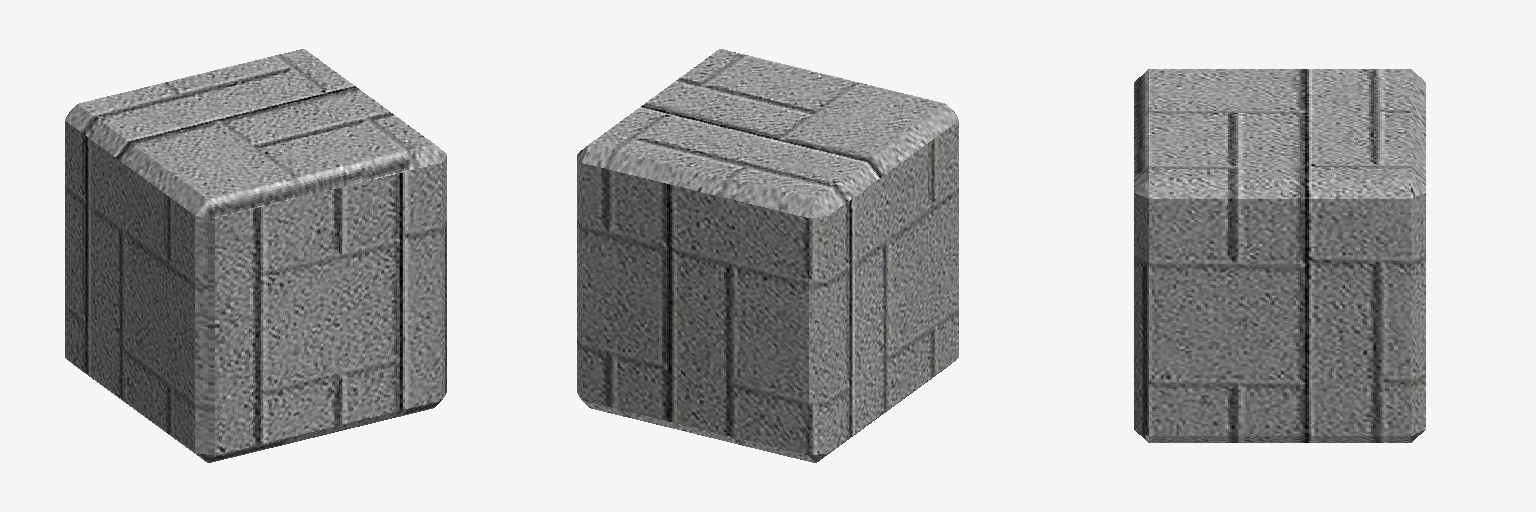
3 renders of one model, left to right at view 1: azimuth 30°, elevation 25°; view 2: azimuth 150°, elevation 25°; view 3: azimuth 270°, elevation 25°, orthographic.
Parts seen in each view (by area): view 1: Cube_Cube.001; view 2: Cube_Cube.001; view 3: Cube_Cube.001.
Boxes of the visible parts, <box> form: Cube_Cube.001: <box>65,49,446,462</box>; Cube_Cube.001: <box>577,49,958,462</box>; Cube_Cube.001: <box>1134,69,1425,442</box>.
Bounding box in the file's own units: 2 × 2 × 2.
2 materials, 1 textured.